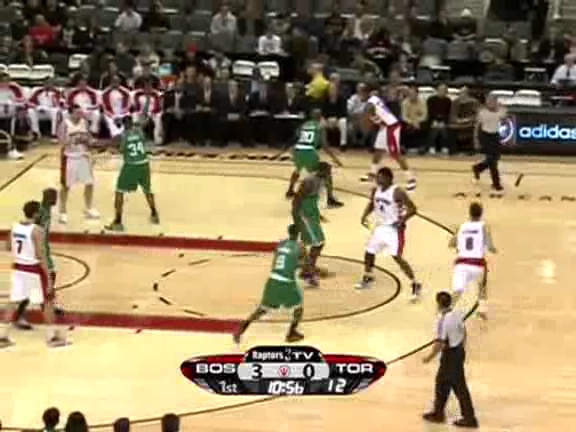person: (270, 235, 304, 316), (269, 235, 303, 316), (271, 235, 305, 316), (270, 234, 304, 315), (270, 236, 304, 317)
target_negative: (99, 301, 570, 430), (318, 96, 497, 237), (277, 55, 539, 119), (466, 11, 569, 108), (129, 394, 314, 418), (92, 359, 97, 430)
